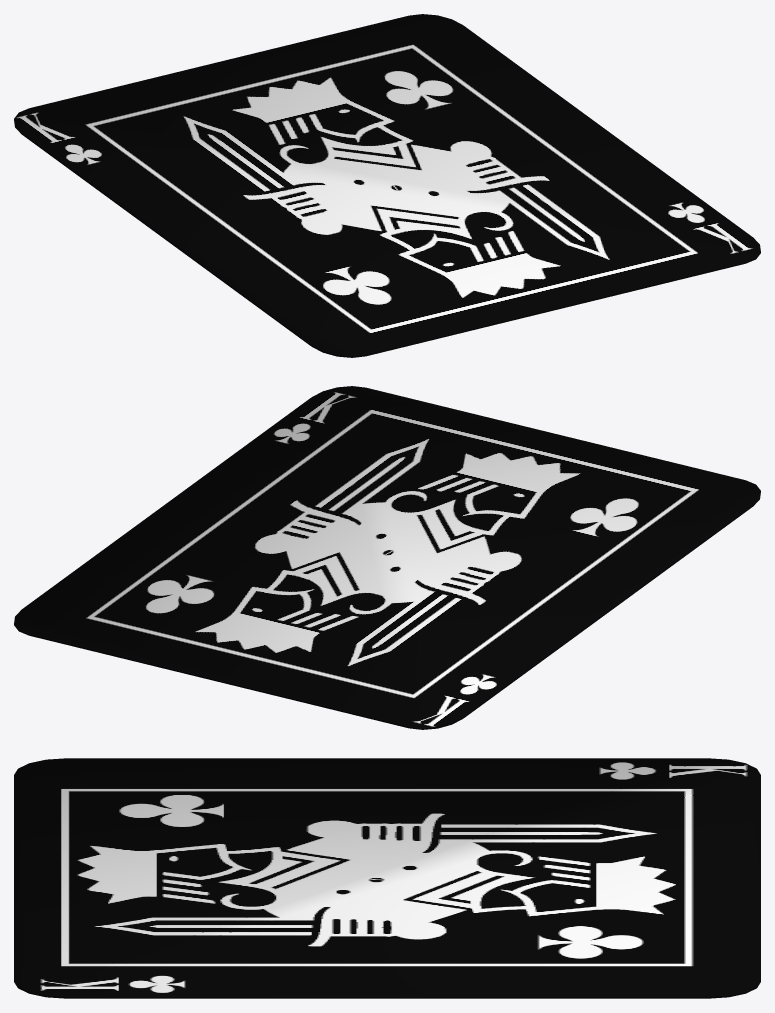
File: Roi_de_trèfle.gltf
3 renders of one model, top to bottom at view 1: azimuth 30°, elevation 25°; view 2: azimuth 150°, elevation 25°; view 3: azimuth 270°, elevation 25°, orthographic. The views are drawn at different scales.
Visible parts, largest first — view 1: Plane.001; view 2: Plane.001; view 3: Plane.001.
Boxes of the visible parts, x1,y1,x2,y2 form: Plane.001: (14,14,760,357); Plane.001: (14,386,760,729); Plane.001: (14,758,760,998).
Size of the model in its own units: 3.59 by 0.01 by 4.74.
Materials: 2 (2 with a texture image).
